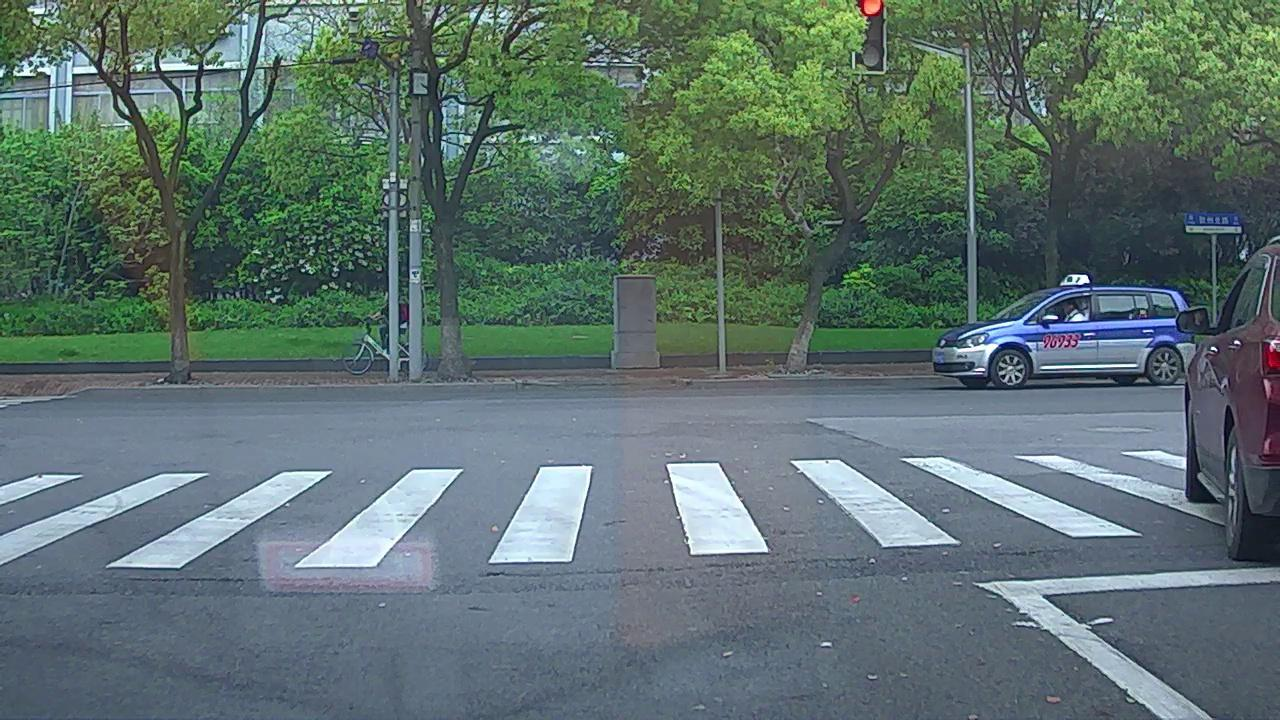traffic_light: (854, 1, 883, 70)
